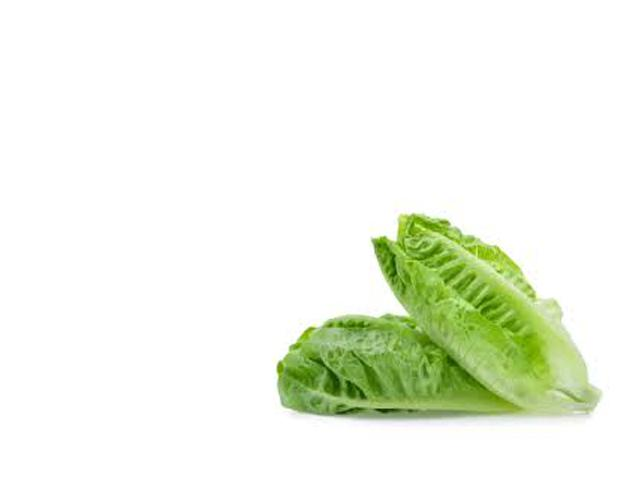lettuce: (254, 307, 530, 436)
